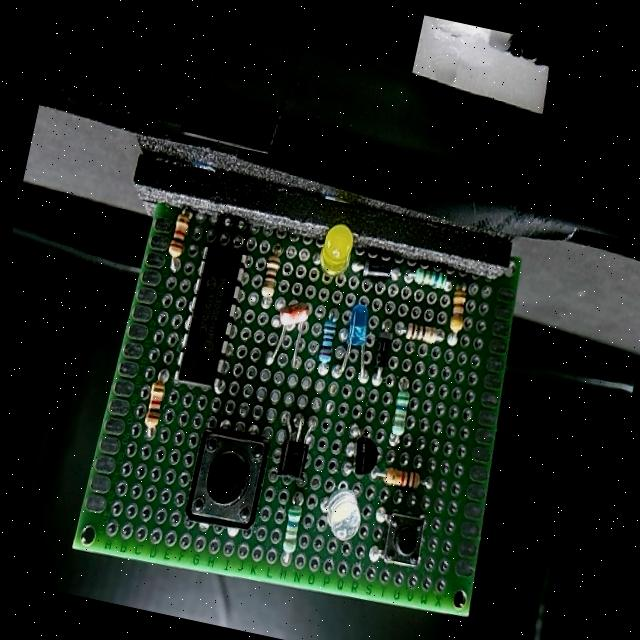IC: (172, 242, 253, 394)
cds: (274, 298, 311, 340)
diode: (370, 334, 392, 376), (361, 256, 396, 280)
led: (316, 483, 368, 545), (314, 218, 358, 280), (341, 300, 374, 354)
resistor: (408, 261, 454, 297), (139, 376, 168, 431), (312, 311, 342, 363), (386, 387, 416, 439), (277, 504, 305, 557), (380, 463, 426, 494), (256, 252, 284, 300), (446, 286, 472, 336), (164, 212, 191, 260), (402, 321, 442, 347)
switch: (178, 424, 276, 534), (378, 510, 430, 573)
transistor: (346, 427, 381, 481), (276, 434, 313, 484)
